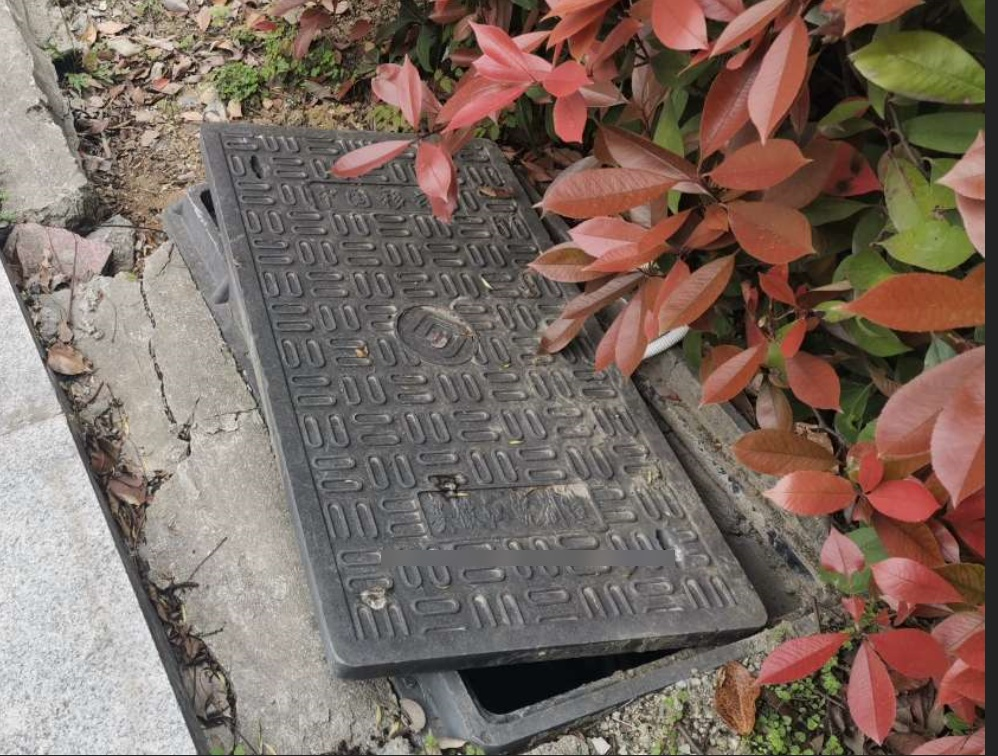well: (168, 102, 834, 707), (251, 354, 835, 746)
